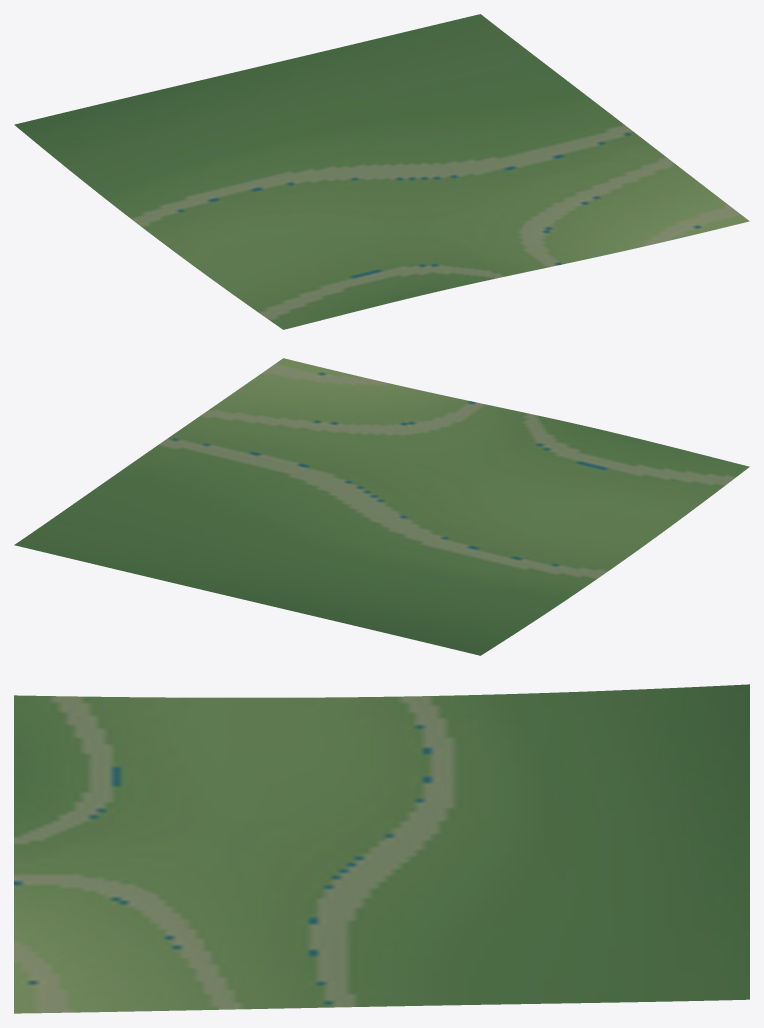
Rendered from terrain_T_E00_N03.glb.
3 renders of one model, top to bottom at view 1: azimuth 30°, elevation 25°; view 2: azimuth 150°, elevation 25°; view 3: azimuth 270°, elevation 25°, orthographic. The views are drawn at different scales.
Visible parts, largest first — view 1: Terrain_T_E00_N03; view 2: Terrain_T_E00_N03; view 3: Terrain_T_E00_N03.
Boxes of the visible parts, bbox=[...] form: Terrain_T_E00_N03: bbox=[14, 14, 749, 329]; Terrain_T_E00_N03: bbox=[14, 358, 749, 655]; Terrain_T_E00_N03: bbox=[14, 684, 749, 1013].
Size of the model in its own units: 2000 by 54.56 by 2000.
1 material, 1 textured.
